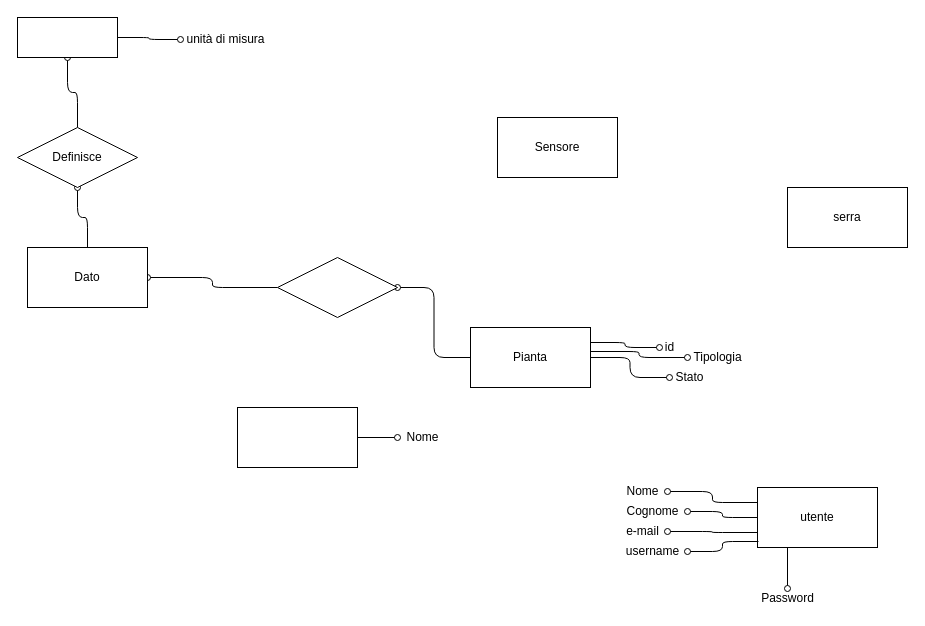
The diagram is 925 pixels wide and 626 high, and some of its shapes have lost their labels. The centre of each missing label's shape, as x and y in pixels:
Appartenenza: pixel 337 287
Modello sensore: pixel 297 437
Tipo di dato: pixel 67 37
